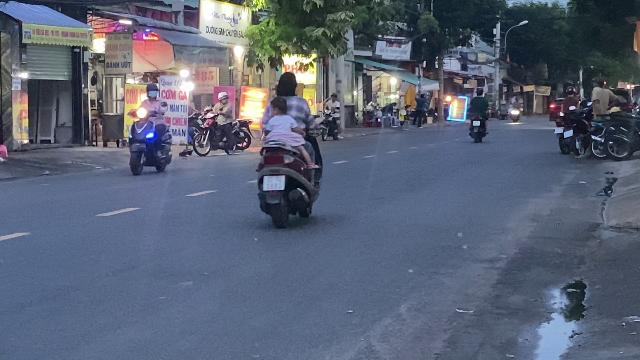helmet: (144, 83, 158, 99)
licenseplate: (263, 176, 285, 190)
motorcyclist: (252, 69, 324, 227), (126, 82, 174, 176)
nohelmet: (274, 72, 298, 96), (270, 96, 288, 116)
